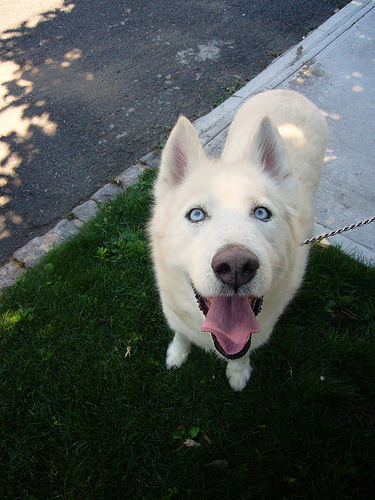dog: (143, 85, 332, 395)
